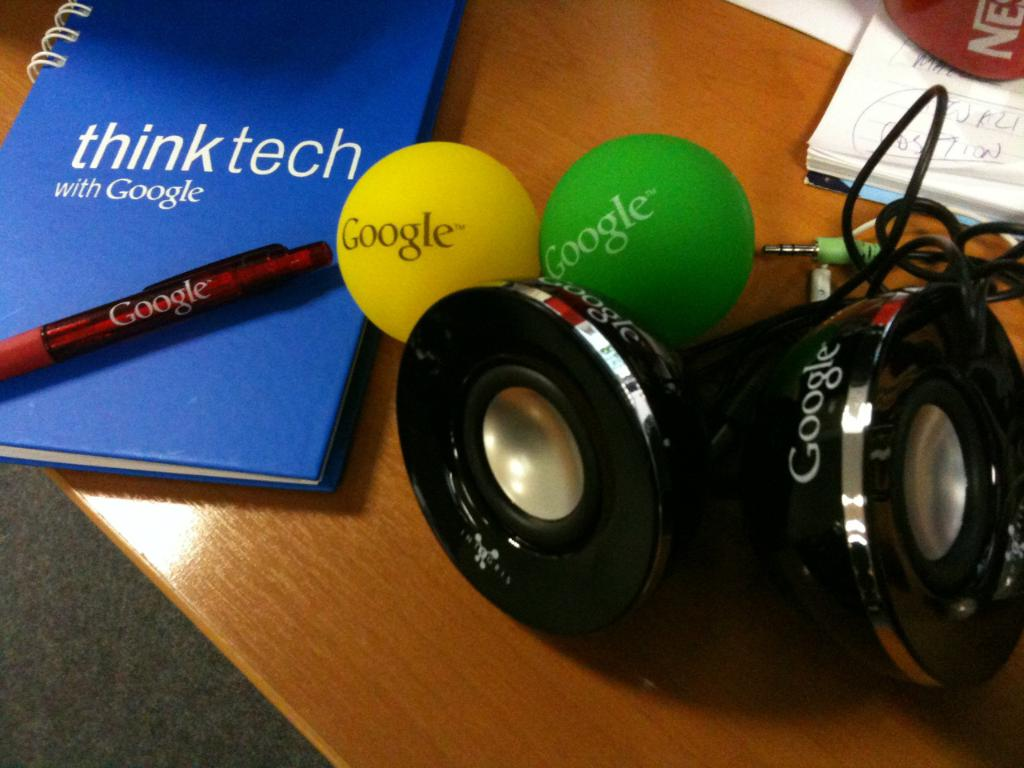Ball: (542, 134, 754, 354), (334, 138, 540, 346)
